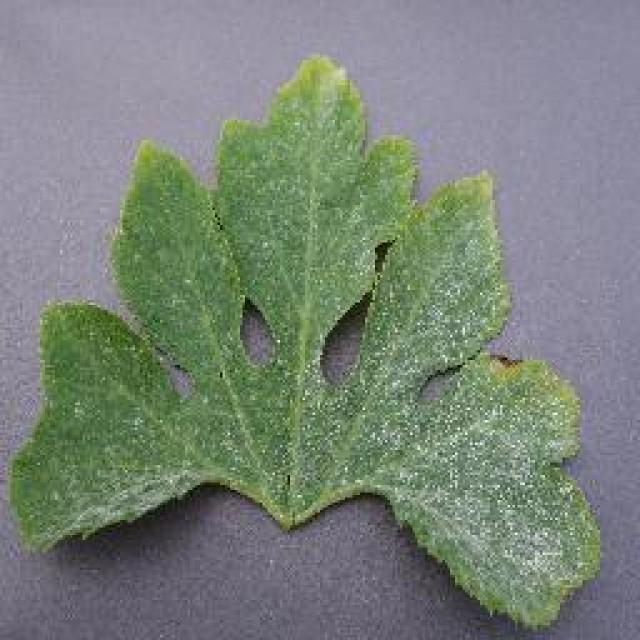Squ_Powdery_mildew: (382, 330, 576, 568)
